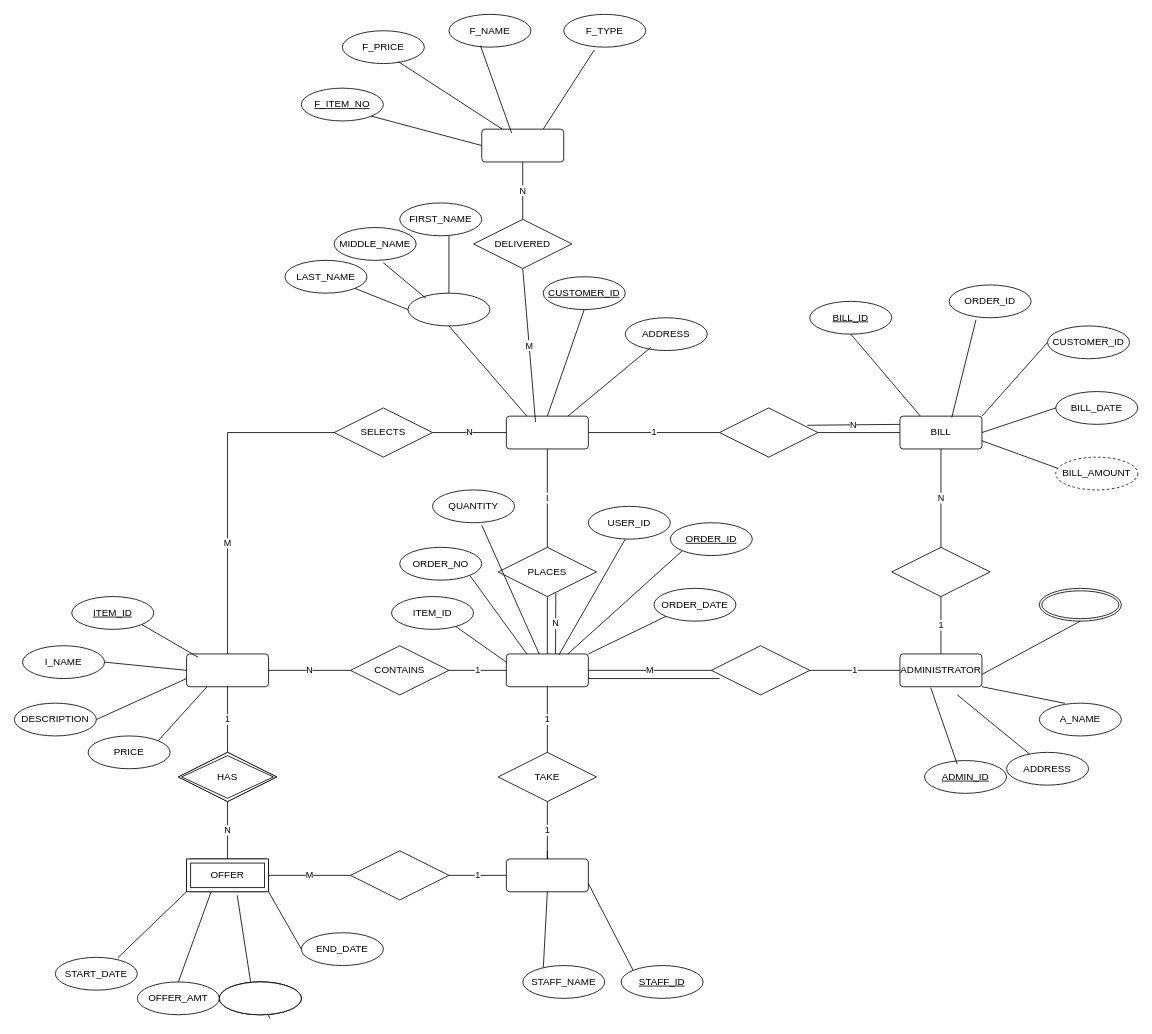
This 1152x1034 diagram has some shape labels left out. Each missing label, with the centre of its shape:
C_NAME: [448,309]
CUSTOMER: [547,432]
FOOD: [522,145]
ITEM: [227,670]
MAKE: [399,875]
offer_id: [260,998]
ORDERS: [547,670]
PAYS: [768,432]
PH_NO: [1080,604]
PRINTS: [940,572]
PROCESS: [760,670]
STAFF: [547,875]
